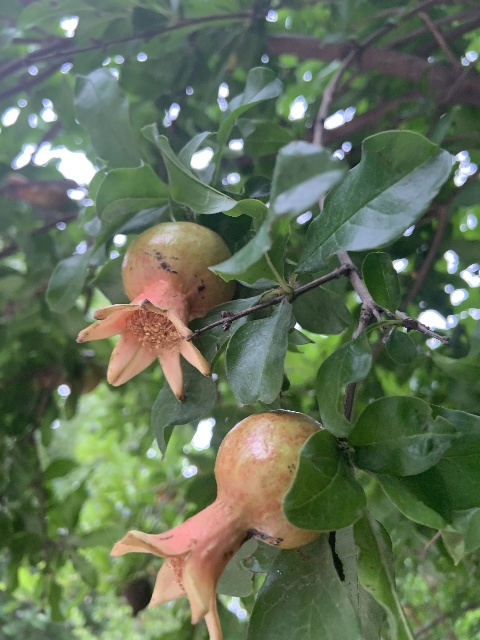early-fruit: (111, 410, 328, 640), (76, 220, 236, 402)
